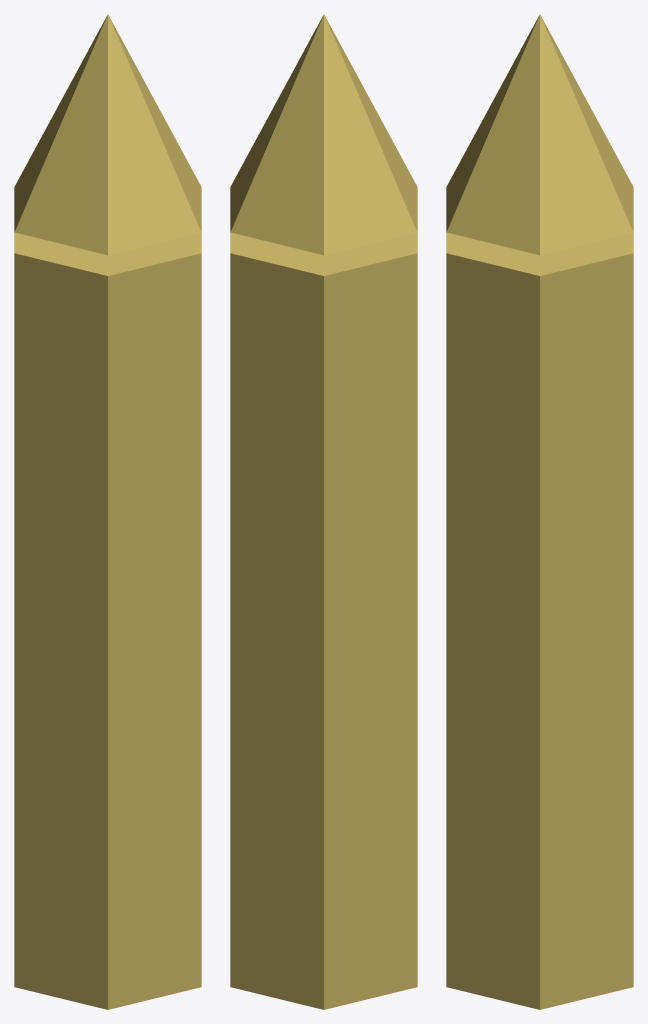
3 views of the same model, side by side, from view 1: azimuth 30°, elevation 25°; view 2: azimuth 150°, elevation 25°; view 3: azimuth 270°, elevation 25° (orthographic).
Parts seen in each view (by area): view 1: part0, part1; view 2: part0, part1; view 3: part0, part1.
Part boxes in pixels (x1,y1,x2,y2): part0: [14, 232, 201, 1009]; part1: [14, 14, 201, 255]; part0: [230, 232, 417, 1009]; part1: [230, 14, 417, 255]; part0: [446, 232, 633, 1009]; part1: [446, 14, 633, 255].
Bounding box in the file's own units: 0.8 × 3.88 × 0.6928.
